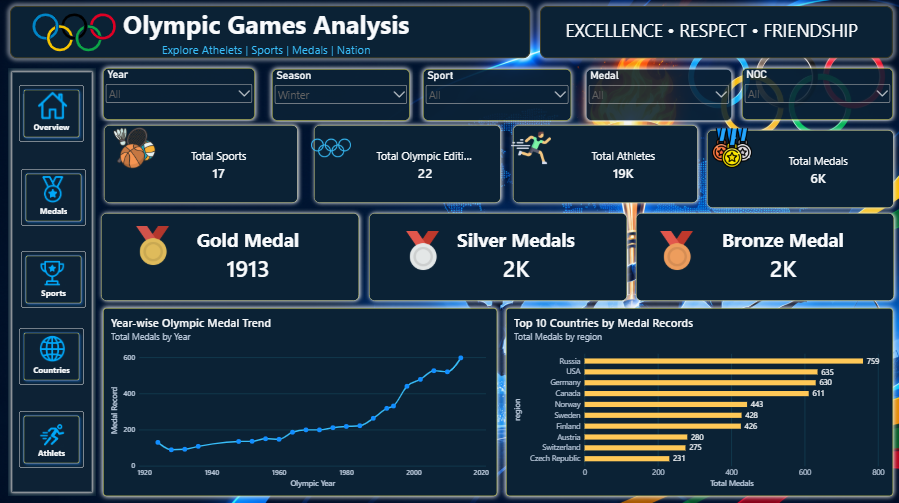

This screenshot's page, from the dashboard's own definition file:
{"tool":"powerbi","page":{"name":" Olympic Overview ","canvas":[1920,1080],"ordinal":0},"visuals":[{"type":"cardVisual","fields":{"Data":["athlete_events.Total Athletes"]},"box":[1088.5,257.2,414.6,187.1],"z":0},{"type":"cardVisual","fields":{"Data":["athlete_events.Total Olympic Editions"]},"box":[665.4,257.2,418.8,187.1],"z":1000},{"type":"cardVisual","fields":{"Data":["athlete_events.Total Medal Records"]},"box":[1500.9,267.9,418.8,187.1],"z":2000},{"type":"cardVisual","fields":{"Data":["athlete_events.Total Sports"]},"box":[219,257.2,433.7,187.1],"z":3000},{"type":"slicer","title":"Year","fields":{"Values":["athlete_events.Year"]},"box":[227.5,146.7,323.1,110],"z":4000},{"type":"slicer","title":"Year","fields":{"Values":["athlete_events.Season"]},"box":[586.8,148.8,293.4,110],"z":5000},{"type":"slicer","title":"Year","fields":{"Values":["athlete_events.Medal"]},"box":[1254.3,148.8,310.4,110],"z":6000},{"type":"slicer","title":"Year","fields":{"Values":["athlete_events.NOC"]},"box":[1586,146.7,321,110],"z":7000},{"type":"slicer","title":"Year","fields":{"Values":["athlete_events.Sport"]},"box":[907.8,148.8,314.6,110],"z":8000},{"type":"clusteredBarChart","title":"Top 10 Countries by Medal Records","fields":{"Category":["country_definitions.region"],"Y":["athlete_events.Total Medal Records"]},"box":[1084.3,656.9,823,399.7],"z":9000},{"type":"lineChart","title":"Year-wise Olympic Medal Trend","fields":{"Category":["athlete_events.Year"],"Y":["athlete_events.Total Medal Records"]},"box":[227.5,656.9,837.6,399.7],"z":10000},{"type":"cardVisual","title":"Gold Medals","fields":{"Data":["athlete_events.Gold Medal Records"]},"box":[212.6,444.3,570,208.3],"z":11000},{"type":"cardVisual","title":"Gold Medals","fields":{"Data":["athlete_events.Silver Medal Records"]},"box":[782.4,444.3,570,208.3],"z":12000},{"type":"cardVisual","title":"Gold Medals","fields":{"Data":["athlete_events.Bronze Medal Records"]},"box":[1350,444.3,570,208.3],"z":13000},{"type":"textbox","title":"Olympic Games Analysis","box":[30.6,13.9,1105.6,111.1],"z":14000},{"type":"shape","box":[25.5,146.7,187.1,909.9],"z":15000},{"type":"actionButton","box":[48.9,182.8,138.2,121.2],"z":16000},{"type":"actionButton","box":[53.1,361.4,138.2,121.2],"z":17000},{"type":"actionButton","box":[53.1,535.7,138.2,121.2],"z":18000},{"type":"actionButton","box":[48.9,699.4,138.2,121.2],"z":19000},{"type":"actionButton","box":[48.9,875.9,138.2,121.2],"z":20000},{"type":"image","box":[72.2,13.9,188.3,111.7],"z":21000},{"type":"image","box":[276.4,482.6,113,83],"z":22000},{"type":"image","box":[850.4,493.2,113.3,83.3],"z":23000},{"type":"image","box":[1390.4,493.2,113,83],"z":24000},{"type":"image","box":[1522.2,272.1,85,89.3],"z":25000},{"type":"image","box":[1094.9,272.1,85,89],"z":26000},{"type":"image","box":[669.7,272.1,85,89],"z":27000},{"type":"image","box":[248.7,272.1,91.4,89.3],"z":28000},{"type":"image","box":[70.2,182.8,97.8,78.7],"z":29000},{"type":"image","box":[70.2,363.5,97.8,72.3],"z":30000},{"type":"image","box":[70.2,704,97.8,70.2],"z":31000},{"type":"image","box":[70.2,892.9,97.8,59.5],"z":32000},{"type":"image","box":[70.2,545,97.8,68],"z":33000},{"type":"textbox","box":[1155.6,13.9,750,111.1],"z":34000}]}

Visuals, with their boxes in screenshot pixels (x1, y1, x2, y2), scaled from the page's 1920x1080 canvas onto the 899x503 screenshot:
cardVisual - athlete_events.Total Athletes: [left=510, top=120, right=704, bottom=207]
cardVisual - athlete_events.Total Olympic Editions: [left=312, top=120, right=508, bottom=207]
cardVisual - athlete_events.Total Medal Records: [left=703, top=125, right=898, bottom=212]
cardVisual - athlete_events.Total Sports: [left=103, top=120, right=306, bottom=207]
"Year" slicer: [left=107, top=68, right=258, bottom=120]
"Year" slicer: [left=275, top=69, right=412, bottom=121]
"Year" slicer: [left=587, top=69, right=733, bottom=121]
"Year" slicer: [left=743, top=68, right=893, bottom=120]
"Year" slicer: [left=425, top=69, right=572, bottom=121]
"Top 10 Countries by Medal Records" clusteredBarChart: [left=508, top=306, right=893, bottom=492]
"Year-wise Olympic Medal Trend" lineChart: [left=107, top=306, right=499, bottom=492]
"Gold Medals" cardVisual: [left=100, top=207, right=366, bottom=304]
"Gold Medals" cardVisual: [left=366, top=207, right=633, bottom=304]
"Gold Medals" cardVisual: [left=632, top=207, right=898, bottom=304]
"Olympic Games Analysis" textbox: [left=14, top=6, right=532, bottom=58]
shape: [left=12, top=68, right=100, bottom=492]
actionButton: [left=23, top=85, right=88, bottom=142]
actionButton: [left=25, top=168, right=90, bottom=225]
actionButton: [left=25, top=249, right=90, bottom=306]
actionButton: [left=23, top=326, right=88, bottom=382]
actionButton: [left=23, top=408, right=88, bottom=464]
image: [left=34, top=6, right=122, bottom=58]
image: [left=129, top=225, right=182, bottom=263]
image: [left=398, top=230, right=451, bottom=268]
image: [left=651, top=230, right=704, bottom=268]
image: [left=713, top=127, right=753, bottom=168]
image: [left=513, top=127, right=552, bottom=168]
image: [left=314, top=127, right=353, bottom=168]
image: [left=116, top=127, right=159, bottom=168]
image: [left=33, top=85, right=79, bottom=122]
image: [left=33, top=169, right=79, bottom=203]
image: [left=33, top=328, right=79, bottom=361]
image: [left=33, top=416, right=79, bottom=444]
image: [left=33, top=254, right=79, bottom=285]
textbox: [left=541, top=6, right=892, bottom=58]
